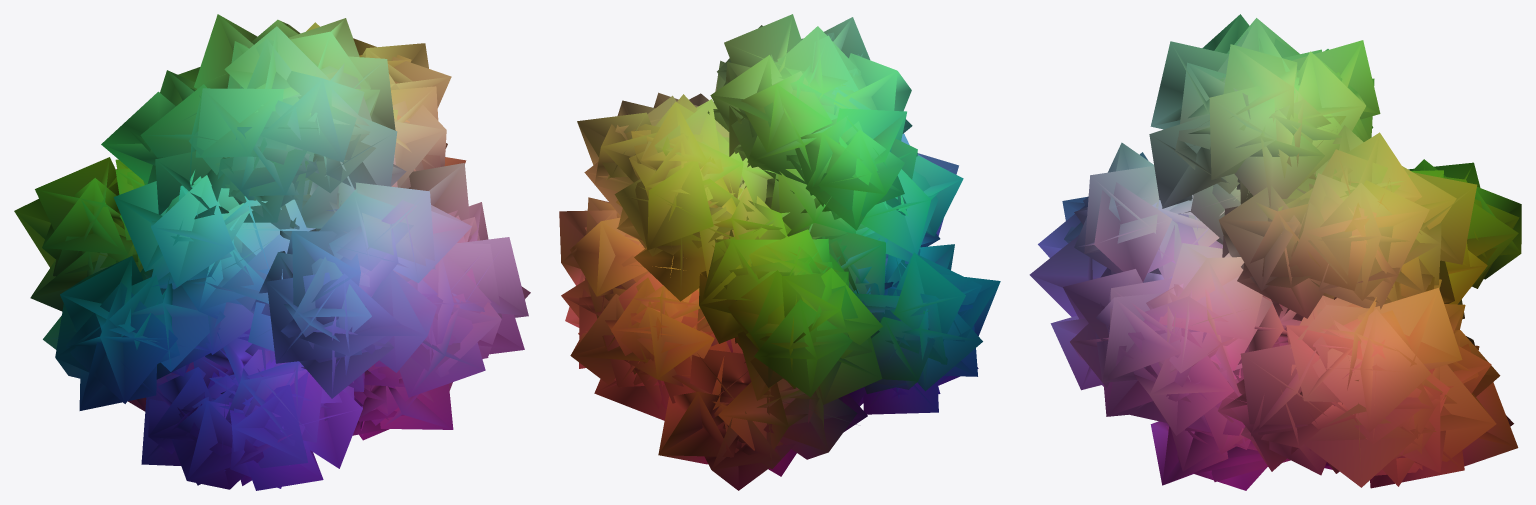
Rendered from Forest_plant_tree_079_a.FBX.
3 renders of one model, left to right at view 1: azimuth 30°, elevation 25°; view 2: azimuth 150°, elevation 25°; view 3: azimuth 270°, elevation 25°, orthographic. The views are drawn at different scales.
Parts seen in each view (by area): view 1: attribwrangle50; view 2: attribwrangle50; view 3: attribwrangle50.
Part boxes in pixels (<box>): attribwrangle50: <box>14,14,530,490</box>; attribwrangle50: <box>559,14,1000,490</box>; attribwrangle50: <box>1029,14,1521,490</box>.
Size of the model in its own units: 2944 by 2937 by 2799.
